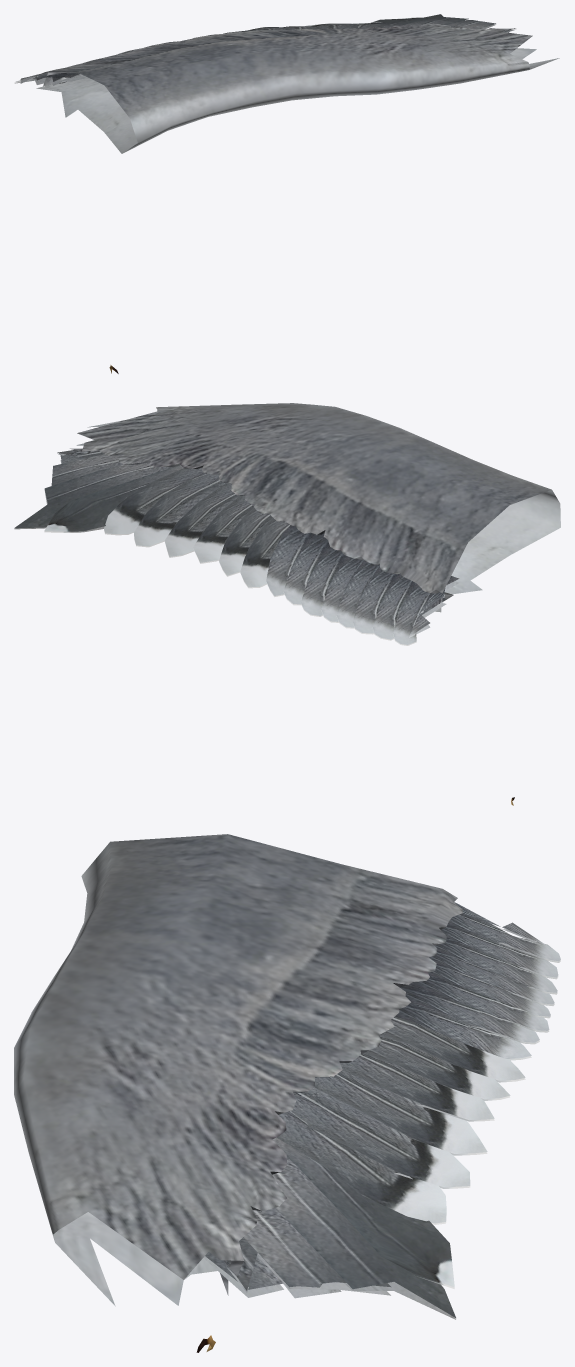
File: Seagull_R_in.gltf
3 views of the same model, one above another, from view 1: azimuth 30°, elevation 25°; view 2: azimuth 150°, elevation 25°; view 3: azimuth 270°, elevation 25° (orthographic). The views are drawn at different scales.
Parts seen in each view (by area): view 1: Seagull_R_in; view 2: Seagull_R_in; view 3: Seagull_R_in.
Part boxes in pixels (bbox=[...]): Seagull_R_in: bbox=[14, 14, 559, 373]; Seagull_R_in: bbox=[14, 403, 560, 805]; Seagull_R_in: bbox=[14, 834, 560, 1352].
Size of the model in its own units: 0.348 by 0.2217 by 0.2069.
Materials: 1 (1 with a texture image).
